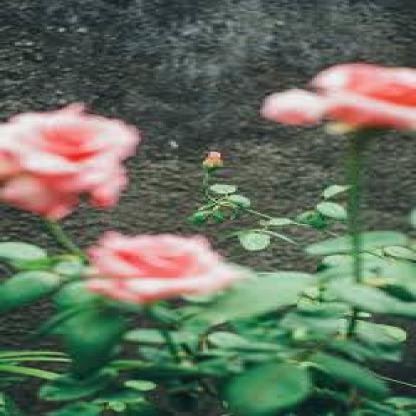Rose-Mawar: (1, 101, 150, 213), (246, 44, 415, 140), (83, 226, 239, 321), (182, 141, 236, 175)
